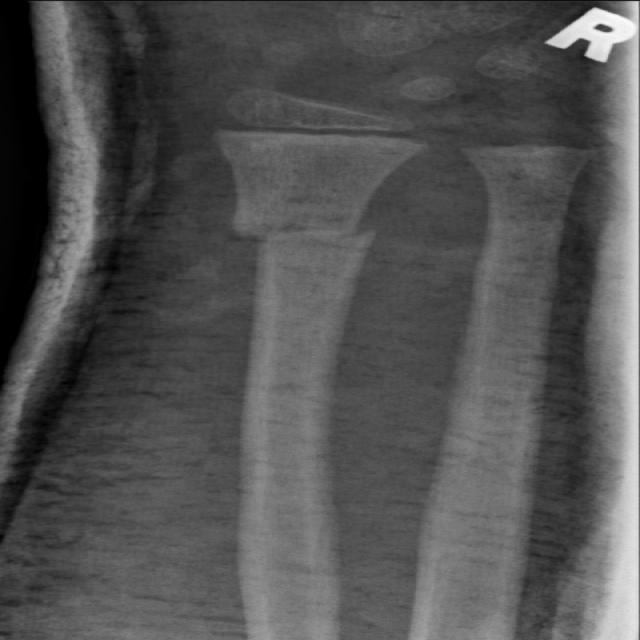radius fracture: (206, 172, 421, 292)
